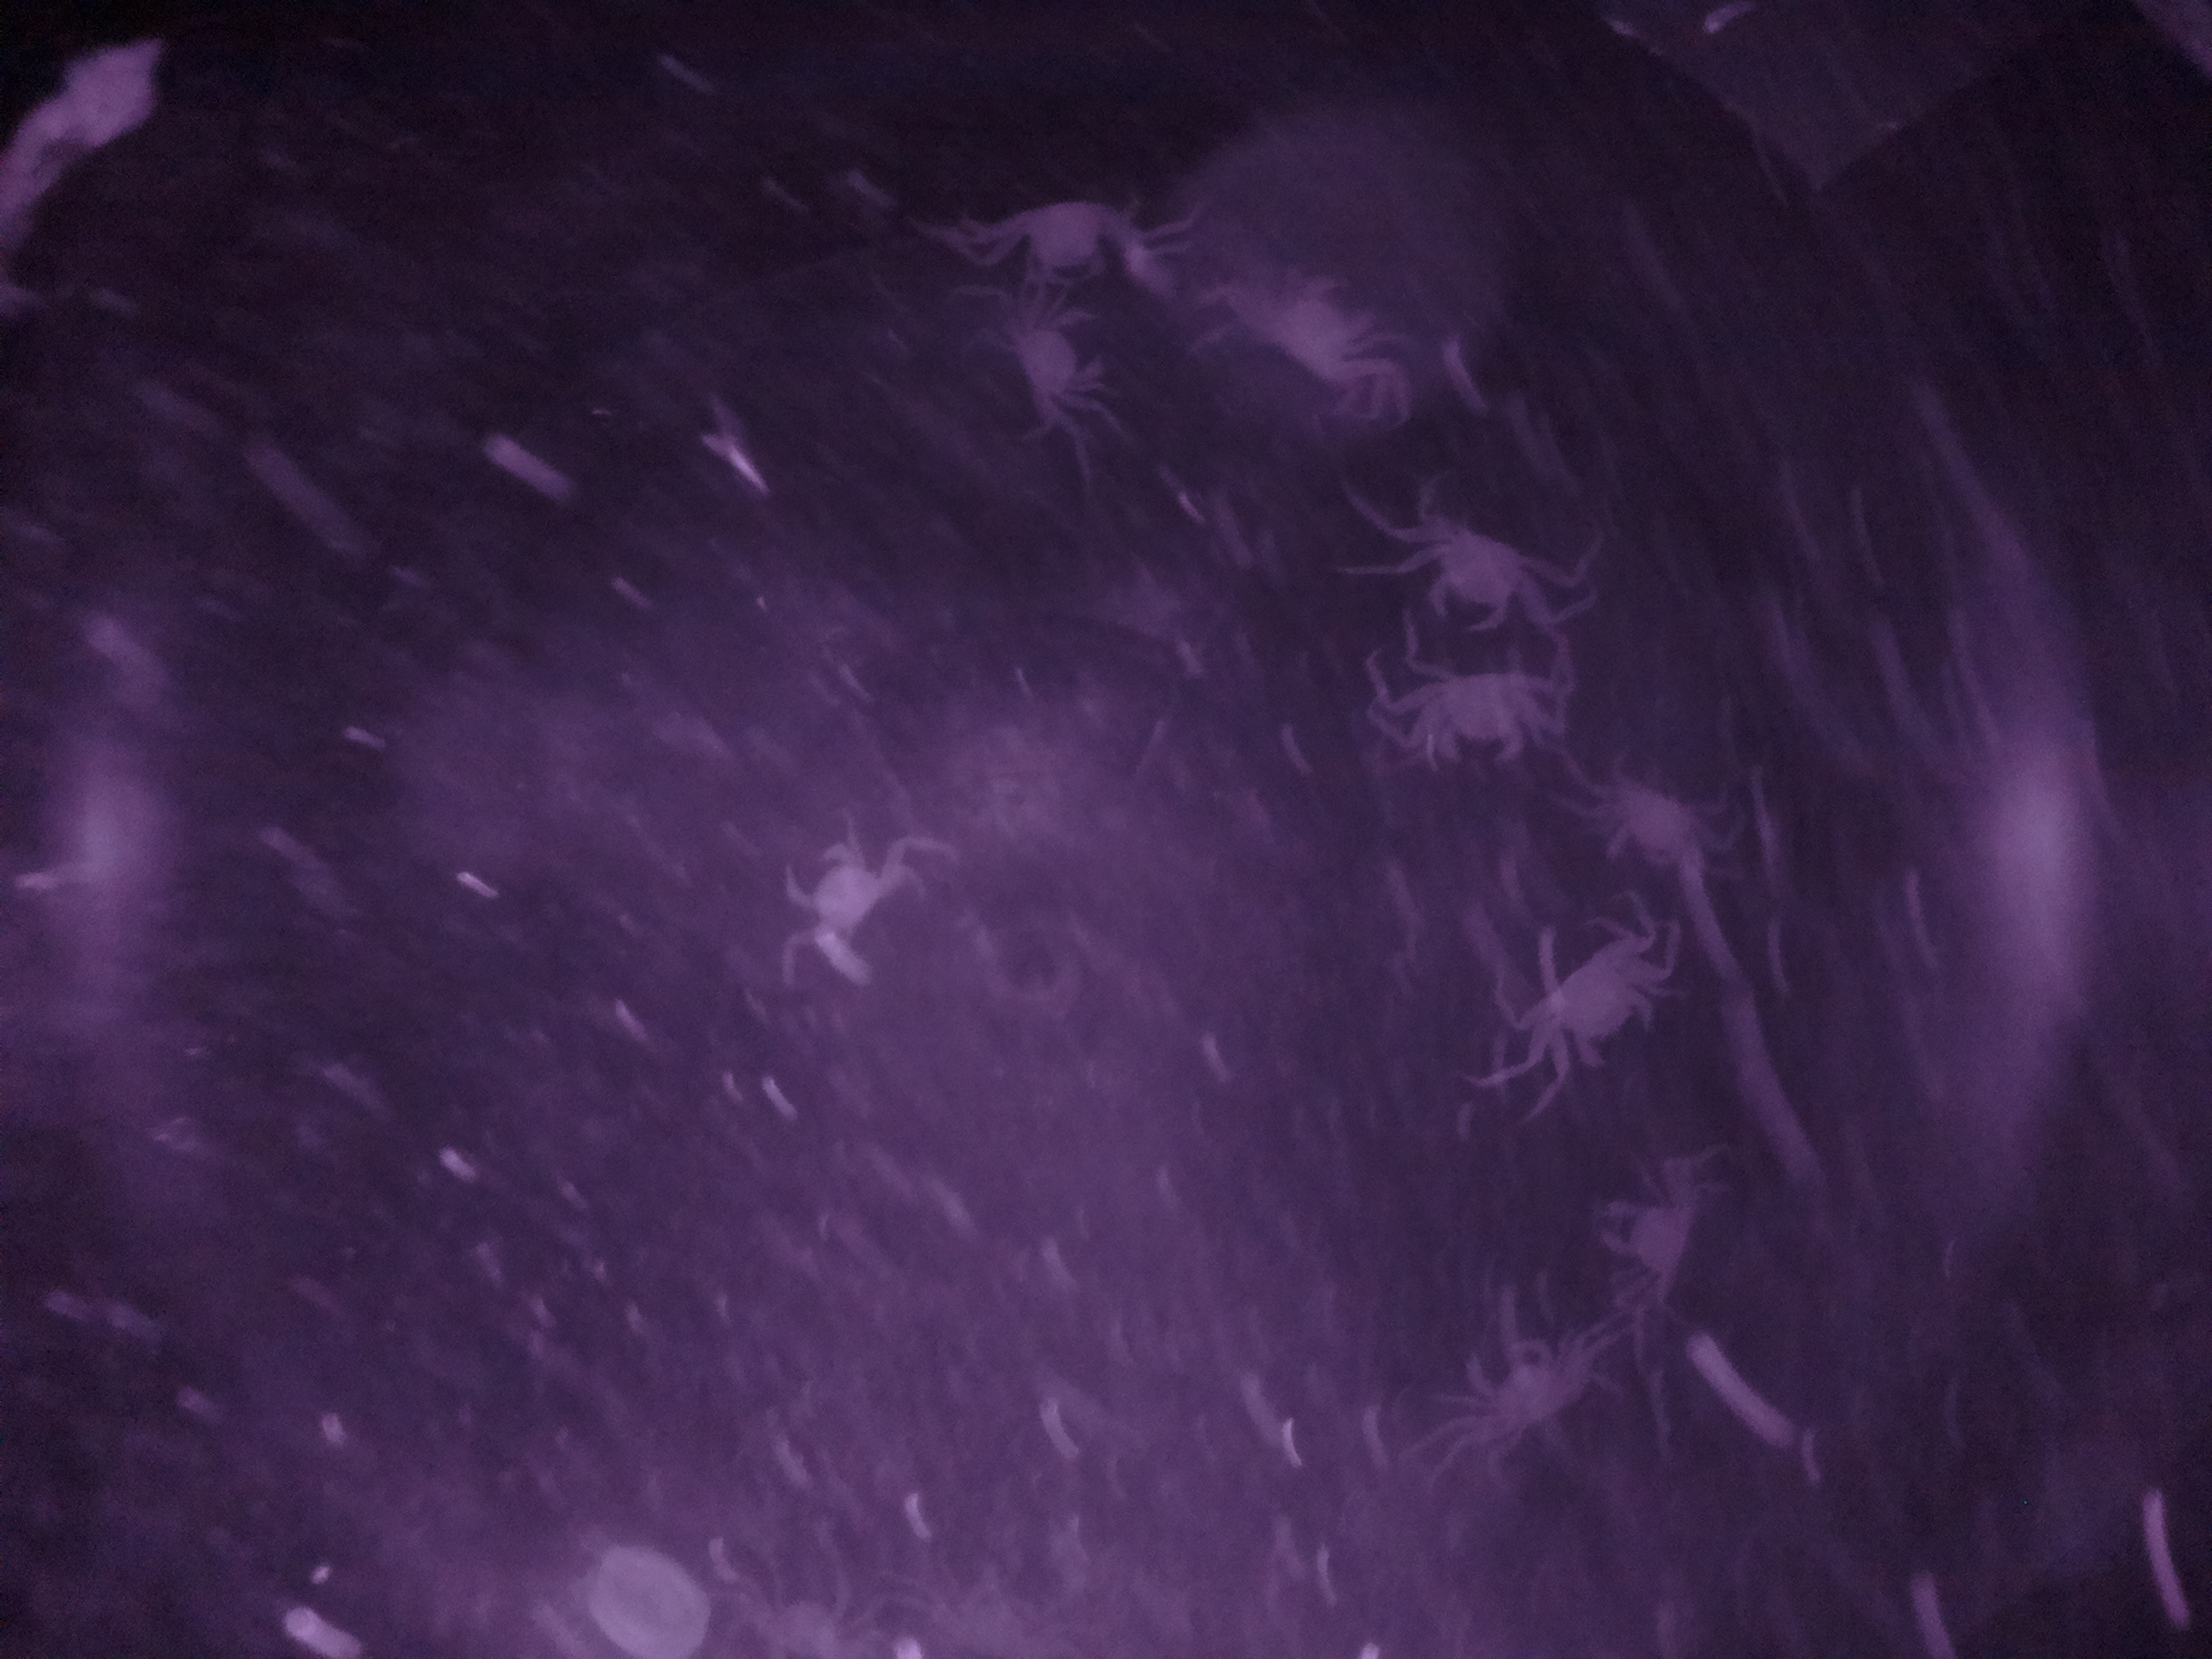Crab: (1496, 903, 1677, 1075), (1402, 507, 1566, 645)
